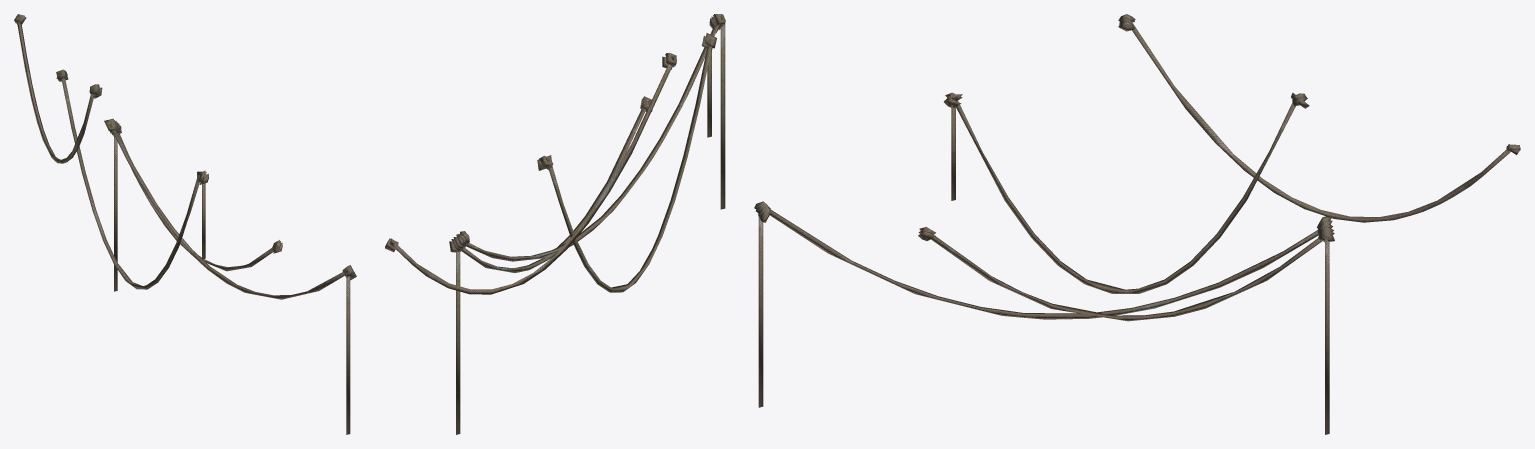
The model's file is casino_hanging_rope_b.glb.
The picture shows the model from 3 angles, left to right: view 1: azimuth 30°, elevation 25°; view 2: azimuth 150°, elevation 25°; view 3: azimuth 270°, elevation 25°; orthographic projection. The views are drawn at different scales.
Parts seen in each view (by area): view 1: casino_hanging_rope_b; view 2: casino_hanging_rope_b; view 3: casino_hanging_rope_b.
Part boxes in pixels (x1,y1,x2,y2): casino_hanging_rope_b: [14, 14, 356, 434]; casino_hanging_rope_b: [385, 14, 725, 434]; casino_hanging_rope_b: [754, 14, 1520, 434].
Bounding box in the file's own units: 1.37 × 3.18 × 6.15.
Materials: 1 (1 with a texture image).
